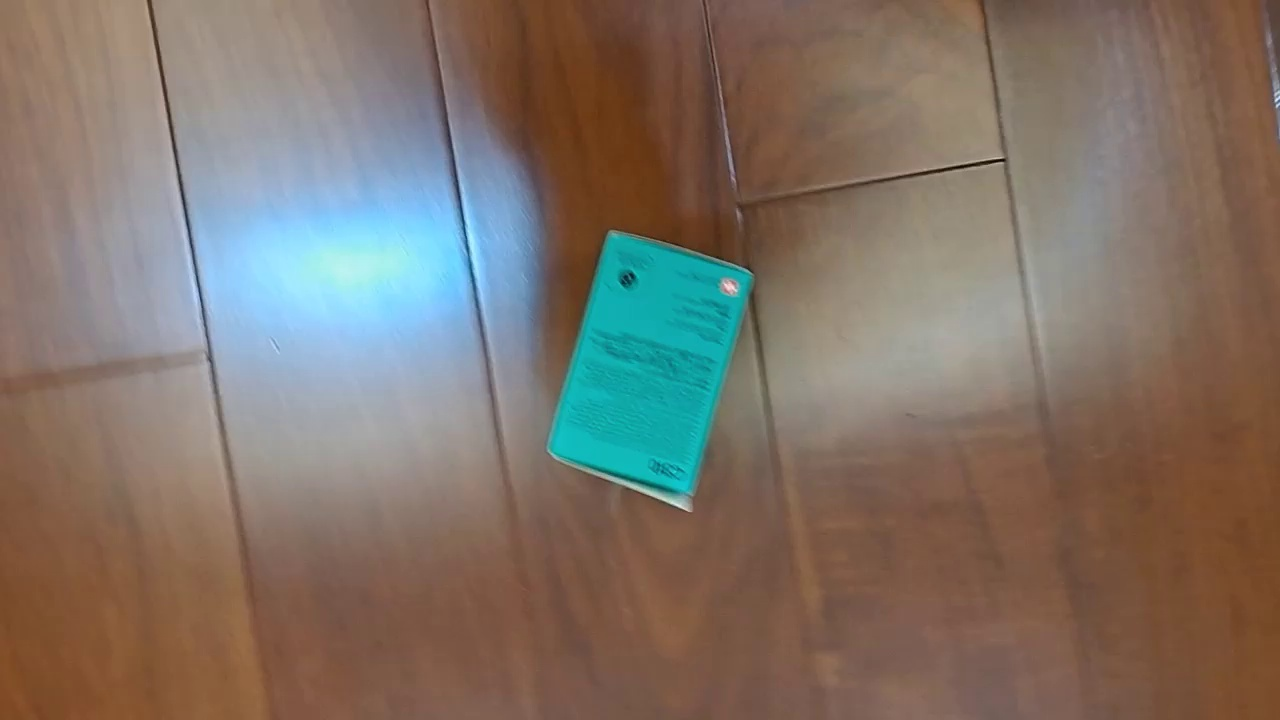webcam: (544, 229, 757, 515)
